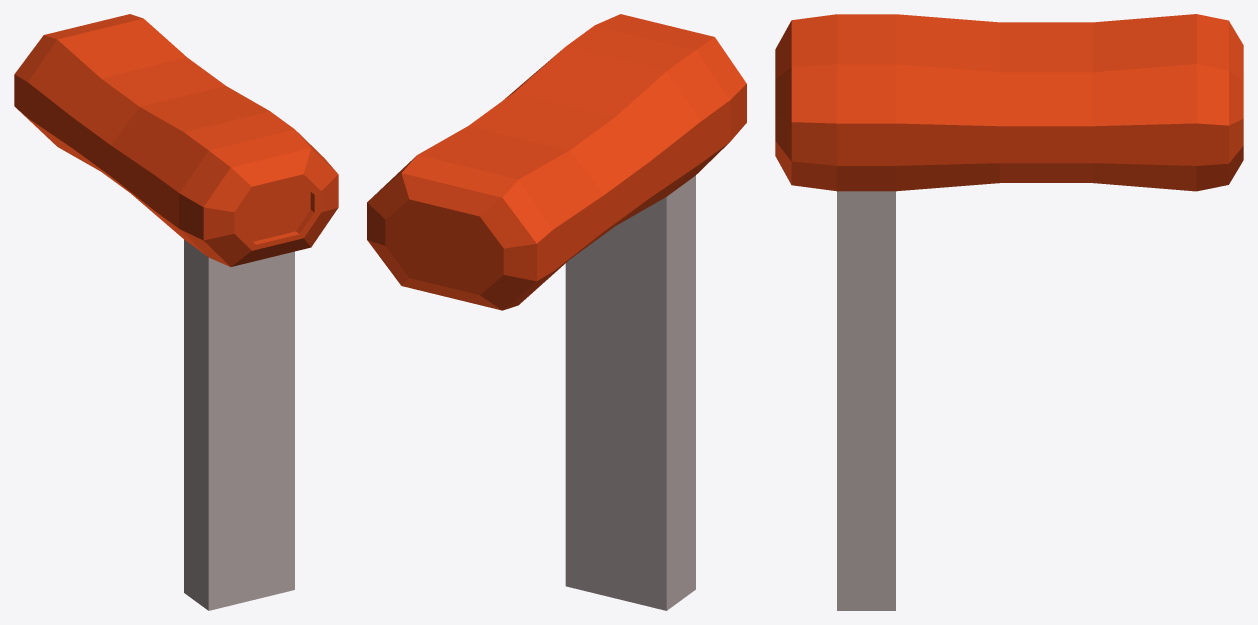
File: dashboard_lever.glb
3 views of the same model, side by side, from view 1: azimuth 30°, elevation 25°; view 2: azimuth 150°, elevation 25°; view 3: azimuth 270°, elevation 25° (orthographic). The views are drawn at different scales.
Visible parts, largest first — view 1: Cube; view 2: Cube; view 3: Cube.
Boxes of the visible parts, bbox=[...] form: Cube: bbox=[14, 14, 338, 610]; Cube: bbox=[367, 14, 746, 610]; Cube: bbox=[775, 14, 1243, 610].
Bounding box in the file's own units: 0.8394 × 2.55 × 1.98.
